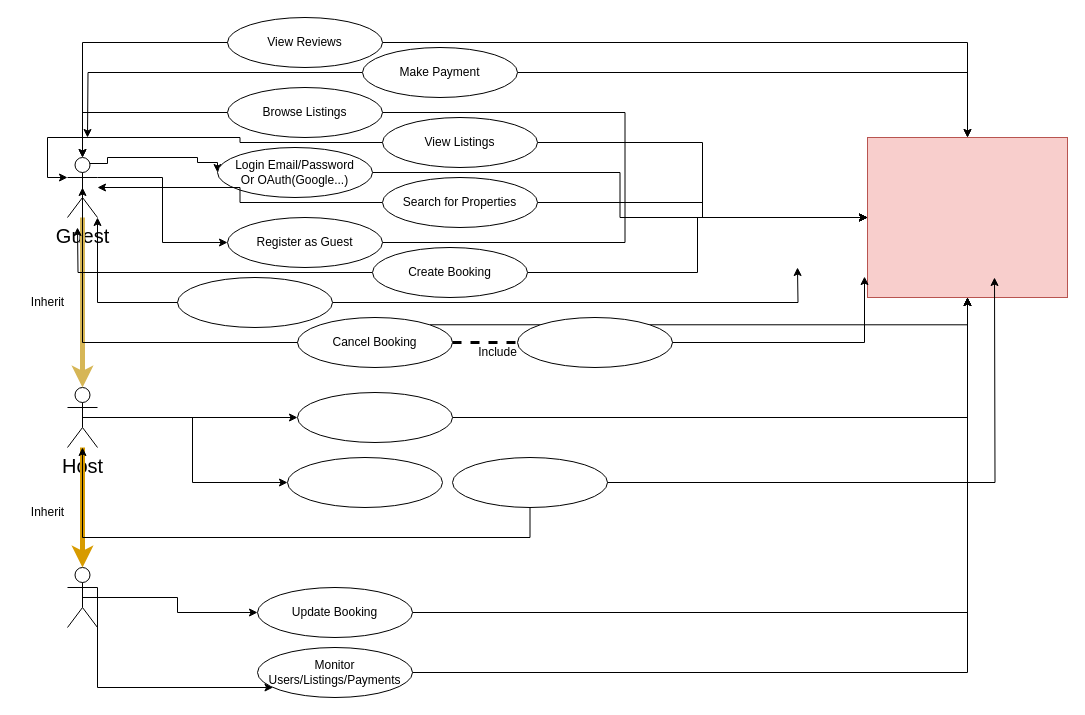
The diagram is 1085 pixels wide and 715 high, and some of its shapes have lost their labels. The shapes that lost their labels are listed below. From the top down, each one's centre as x and y in pixels, then its label:
At (967,217): "SYSTEM".
At (254,302): "Update Profile (Images,Password...)".
At (594,342): "Inform the Host & Adhere to the cancelation policy".
At (374,417): "Register As Host".
At (364,482): "Add/Edit/Delete Listings".
At (530,482): "Respond to reviews".
At (82,597): "Admin".
